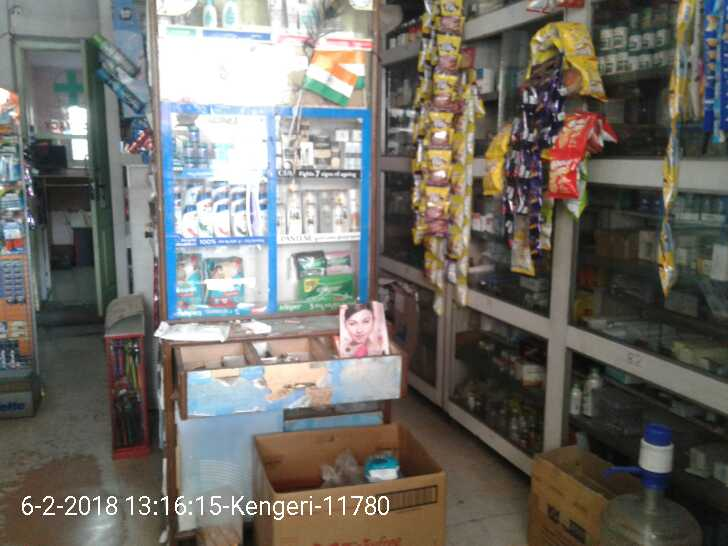beauty: (328, 181, 356, 234), (296, 185, 321, 233), (232, 192, 257, 239), (194, 187, 211, 238), (211, 192, 231, 235), (307, 134, 333, 167), (282, 185, 298, 235), (175, 194, 194, 236), (281, 127, 295, 170)
pharmacy: (168, 119, 240, 170), (288, 255, 351, 299), (197, 259, 247, 307), (177, 253, 200, 311)
